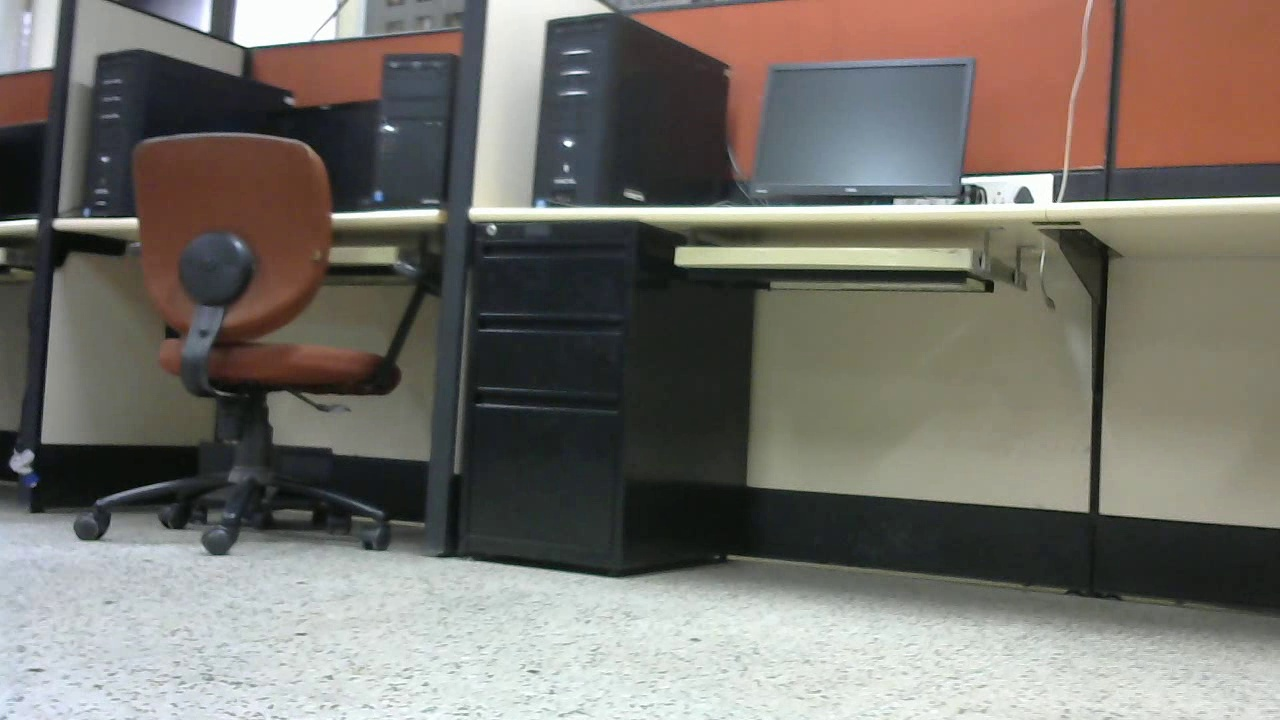chair: (65, 120, 441, 555)
